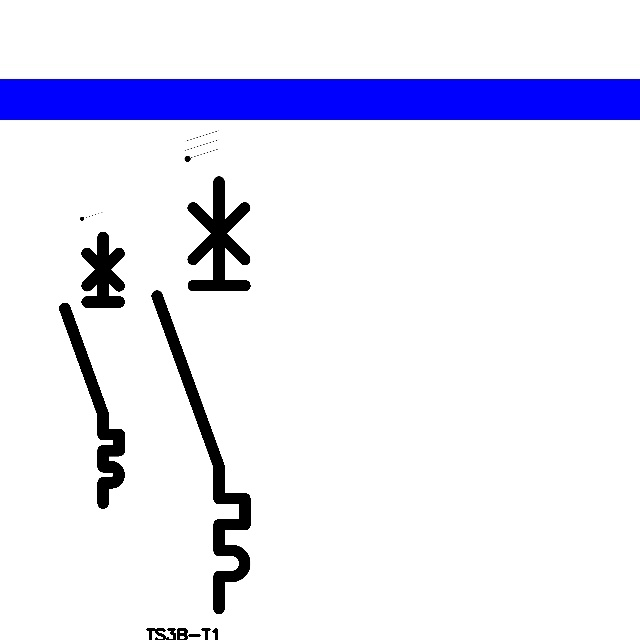interruptor_termomagnetico: (146, 170, 256, 619), (58, 230, 126, 509)
